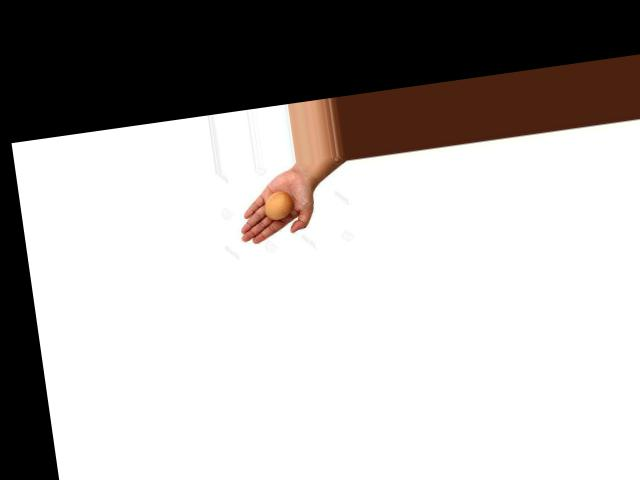egg: (263, 189, 295, 220)
